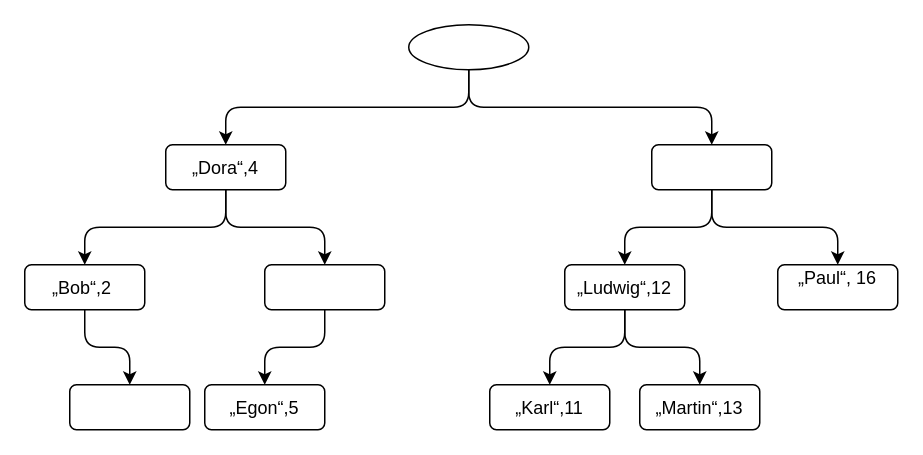
Some shapes in this 923 by 455 pixel diagram are drawn without their labels. The shapes that lost their labels are listed below. From the top down, each one's centre as x and y in pixels, then its label:
At (x=468, y=46): "George“,7".
At (x=711, y=166): "„Omikron“,15".
At (x=324, y=286): "„Fred“,6".
At (x=129, y=406): "„Charles“,3".
